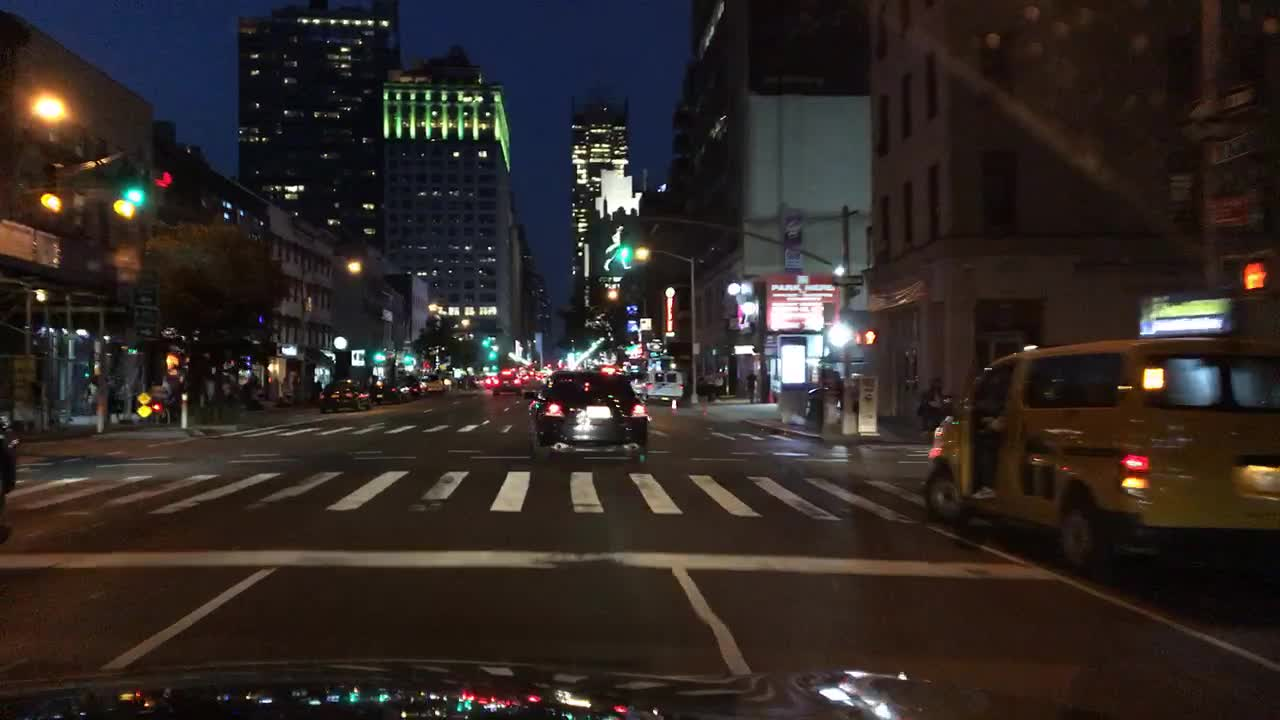car: (920, 335, 1278, 576), (529, 368, 649, 461), (0, 404, 17, 546), (317, 380, 370, 413), (646, 371, 682, 402), (367, 377, 406, 404), (520, 365, 546, 398), (490, 368, 520, 396), (625, 368, 649, 398), (421, 371, 451, 392), (406, 374, 430, 396), (435, 371, 460, 389), (481, 371, 498, 389), (459, 374, 478, 389), (595, 365, 619, 372), (553, 363, 570, 372)
motor: (147, 396, 171, 425)
person: (14, 371, 35, 447), (919, 380, 934, 428), (931, 378, 944, 431), (201, 372, 215, 419), (830, 368, 844, 413), (89, 375, 102, 422), (742, 368, 757, 404), (755, 365, 769, 402), (104, 378, 114, 425), (221, 374, 233, 410), (941, 395, 955, 425), (116, 381, 128, 416), (246, 377, 260, 407), (281, 377, 293, 407), (703, 369, 713, 399), (682, 368, 691, 398), (161, 377, 176, 395), (815, 368, 826, 392), (715, 371, 724, 395), (695, 368, 701, 401)
rider: (146, 380, 165, 401)
traffic light: (1244, 254, 1278, 299), (122, 166, 146, 203), (155, 133, 170, 188), (613, 244, 631, 265), (164, 353, 179, 374), (400, 347, 412, 365), (863, 329, 875, 344), (851, 329, 863, 344), (564, 348, 583, 357), (372, 350, 385, 362), (484, 351, 498, 362), (481, 335, 490, 348)
traffic sign: (14, 356, 35, 381), (135, 392, 152, 416), (137, 293, 156, 308), (135, 326, 153, 338), (639, 319, 651, 330)
